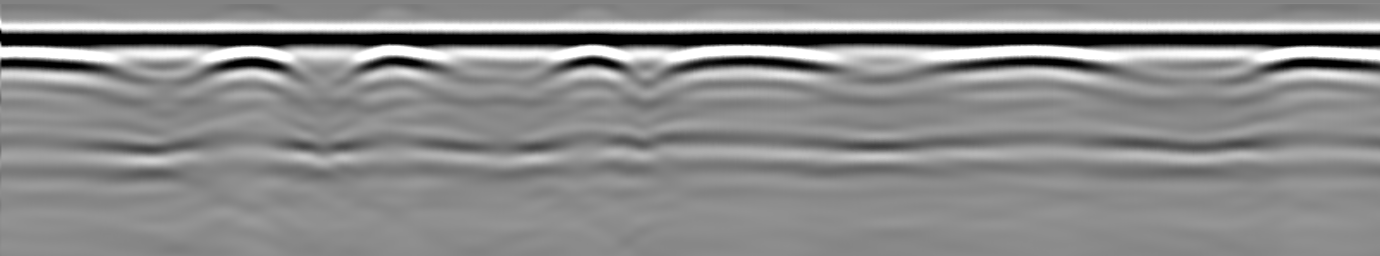steel: (931, 48, 1118, 76), (668, 48, 838, 73), (1249, 47, 1380, 78), (189, 49, 301, 80), (2, 47, 120, 76), (537, 48, 642, 74), (344, 49, 453, 72)
